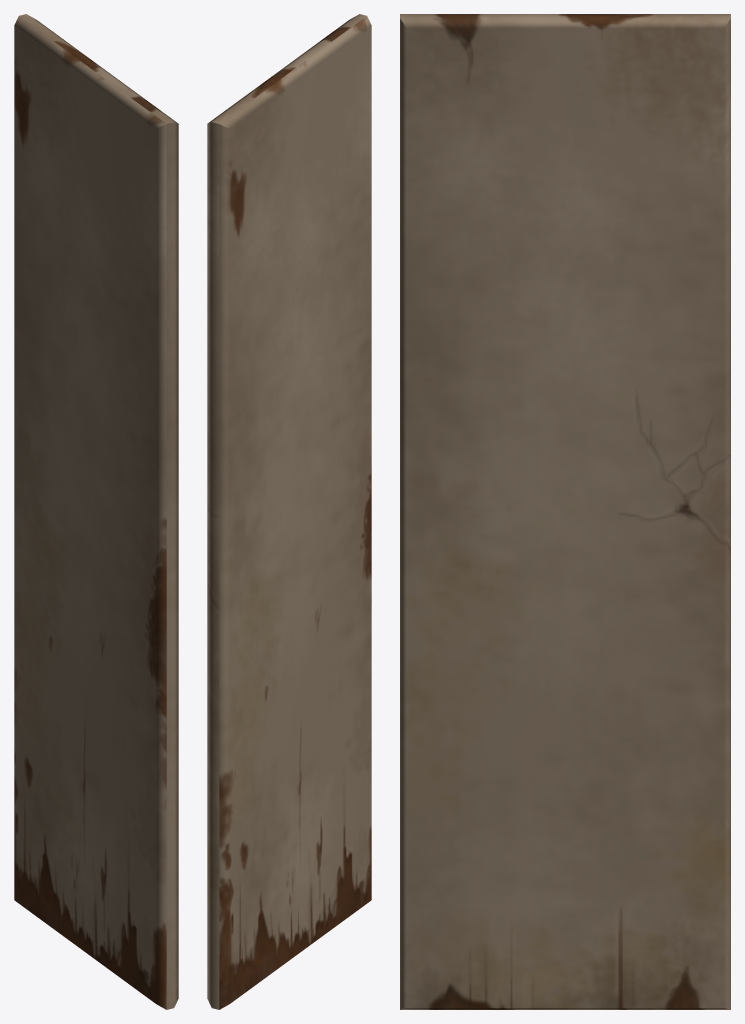
Rendered from PlankSign_2.fbx.
3 renders of one model, left to right at view 1: azimuth 30°, elevation 25°; view 2: azimuth 150°, elevation 25°; view 3: azimuth 270°, elevation 25°, orthographic. The views are drawn at different scales.
Parts seen in each view (by area): view 1: GenericSign; view 2: GenericSign; view 3: GenericSign.
Part boxes in pixels (<box>): GenericSign: <box>14,14,178,1009</box>; GenericSign: <box>207,14,371,1009</box>; GenericSign: <box>400,14,730,1009</box>.
Bounding box in the file's own units: 2.85 × 107 × 32.28.
